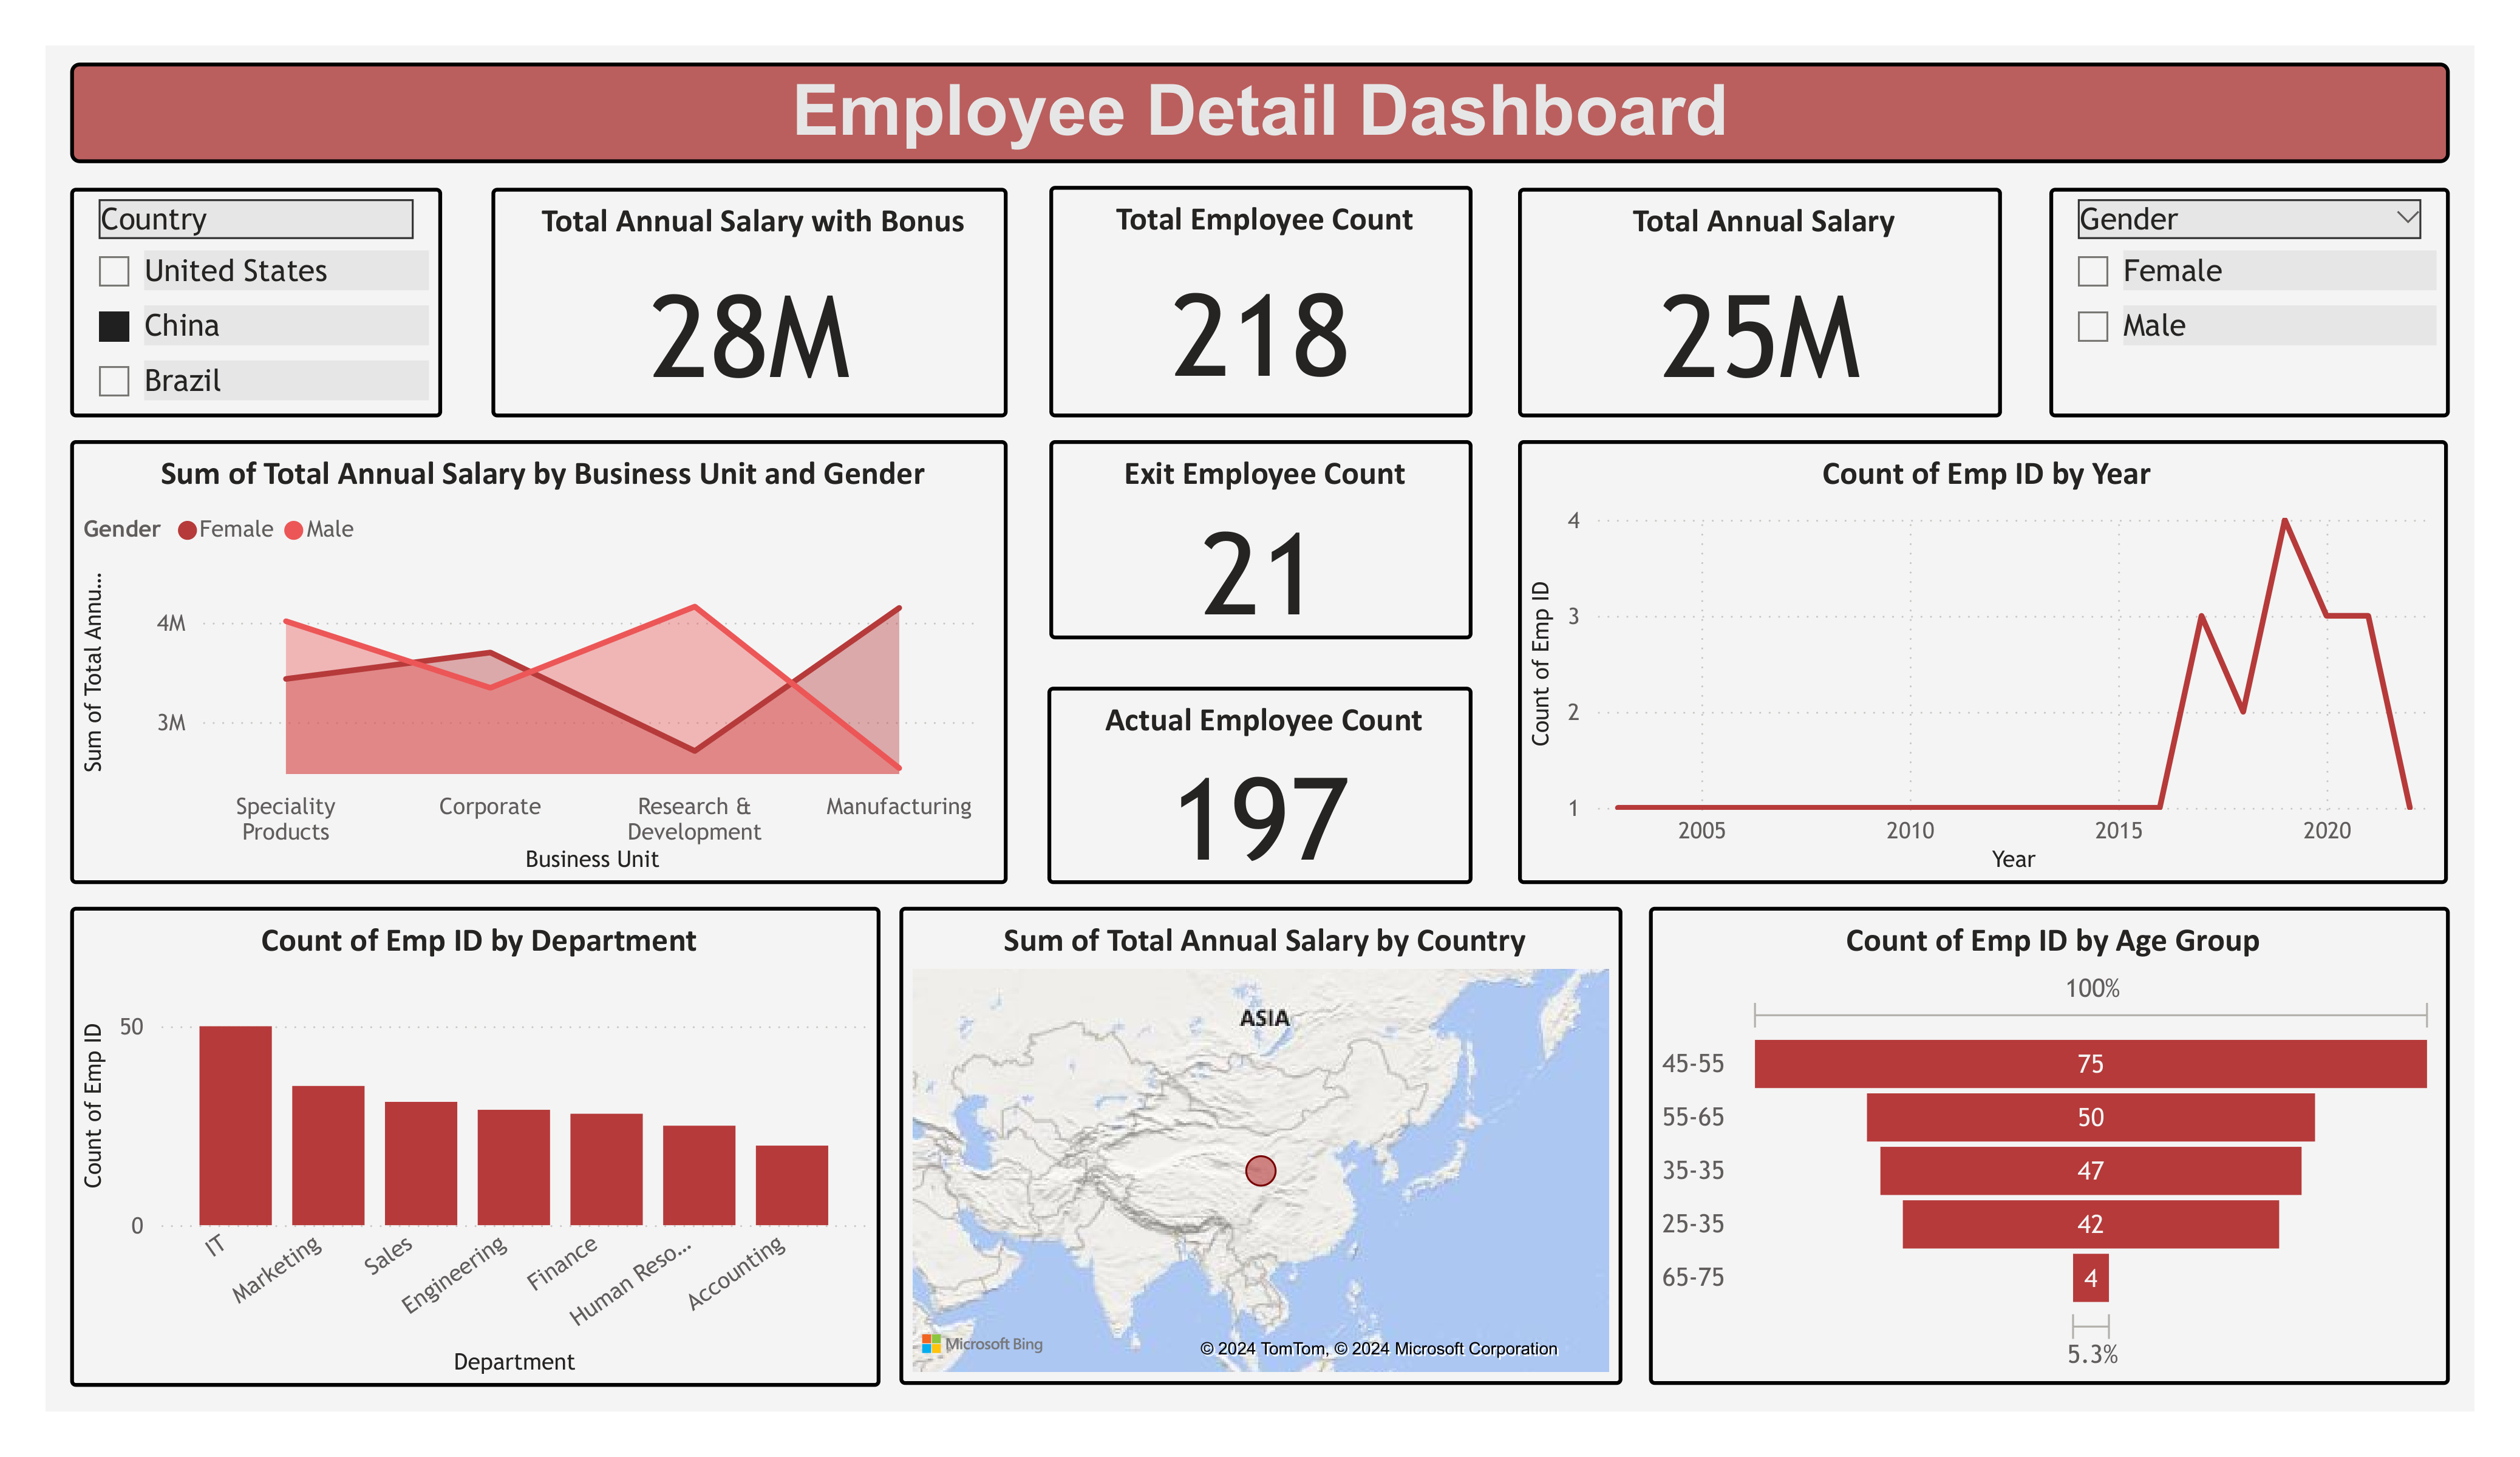

The dashboard page shown, as its layout file describes it:
{"tool":"powerbi","page":{"name":"Page 1","canvas":[1280,720],"ordinal":0},"visuals":[{"type":"textbox","box":[12.9,9.4,1254.1,52.9],"z":0},{"type":"card","title":"Total  Annual Salary with Bonus","fields":{"Values":["Sum(Sheet1.Total Annual Salary)"]},"box":[234.9,74.7,271.7,121],"z":1000},{"type":"card","title":"Total Employee Count","fields":{"Values":["CountNonNull(Sheet1.Emp ID.1)"]},"box":[529.2,73.6,223.1,122.2],"z":2000},{"type":"card","title":"Exit Employee Count","fields":{"Values":["CountNonNull(Sheet1.Exit Date)"]},"box":[529.4,208.2,222.4,104.7],"z":3000},{"type":"card","title":"Actual Employee Count","fields":{"Values":["Sum(Sheet1.Actual Exit)"]},"box":[528,325,224,117],"z":4000},{"type":"card","title":"Total Annual Salary","fields":{"Values":["Sum(Sheet1.Annual Salary)"]},"box":[776,74.7,255.1,121],"z":5000},{"type":"lineChart","fields":{"Y":["CountNonNull(Sheet1.Emp ID)"],"Category":["Sheet1.Exit Date.Variation.Date Hierarchy.Year"]},"box":[776.5,208.2,489.4,234.1],"z":6000},{"type":"columnChart","fields":{"Y":["CountNonNull(Sheet1.Emp ID)"],"Category":["Sheet1.Department"]},"box":[12.9,454.1,427.1,252.9],"z":7000},{"type":"map","fields":{"Category":["Sheet1.Country"],"Size":["Sum(Sheet1.Total Annual Salary)"]},"box":[450,453.6,381,252.4],"z":8000},{"type":"funnel","fields":{"Category":["Sheet1.Age Group"],"Y":["CountNonNull(Sheet1.Emp ID)"]},"box":[845.2,453.6,421.4,252.4],"z":9000},{"type":"areaChart","fields":{"Category":["Sheet1.Business Unit"],"Y":["Sum(Sheet1.Total Annual Salary)"],"Series":["Sheet1.Gender"]},"box":[12.9,208.2,494.1,234.1],"z":10000},{"type":"slicer","fields":{"Values":["Sheet1.Gender"]},"box":[1056,74.7,211.2,121],"z":11000},{"type":"slicer","fields":{"Values":["Sheet1.Country"]},"box":[12.9,75.3,196.5,121.2],"z":12000}]}

Visuals, with their boxes on the page's 1280x720 design canvas (x1, y1, x2, y2). These are canvas units, not pixel positions in the 2520x1457 screenshot, which may show the page scaled, cropped or inside an application window:
textbox: 13,9,1267,62
"Total  Annual Salary with Bonus" card: 235,75,507,196
"Total Employee Count" card: 529,74,752,196
"Exit Employee Count" card: 529,208,752,313
"Actual Employee Count" card: 528,325,752,442
"Total Annual Salary" card: 776,75,1031,196
lineChart - CountNonNull(Sheet1.Emp ID) x Sheet1.Exit Date.Variation.Date Hierarchy.Year: 776,208,1266,442
columnChart - CountNonNull(Sheet1.Emp ID) x Sheet1.Department: 13,454,440,707
map - Sheet1.Country x Sum(Sheet1.Total Annual Salary): 450,454,831,706
funnel - Sheet1.Age Group x CountNonNull(Sheet1.Emp ID): 845,454,1267,706
areaChart - Sheet1.Business Unit x Sum(Sheet1.Total Annual Salary): 13,208,507,442
slicer - Sheet1.Gender: 1056,75,1267,196
slicer - Sheet1.Country: 13,75,209,196
